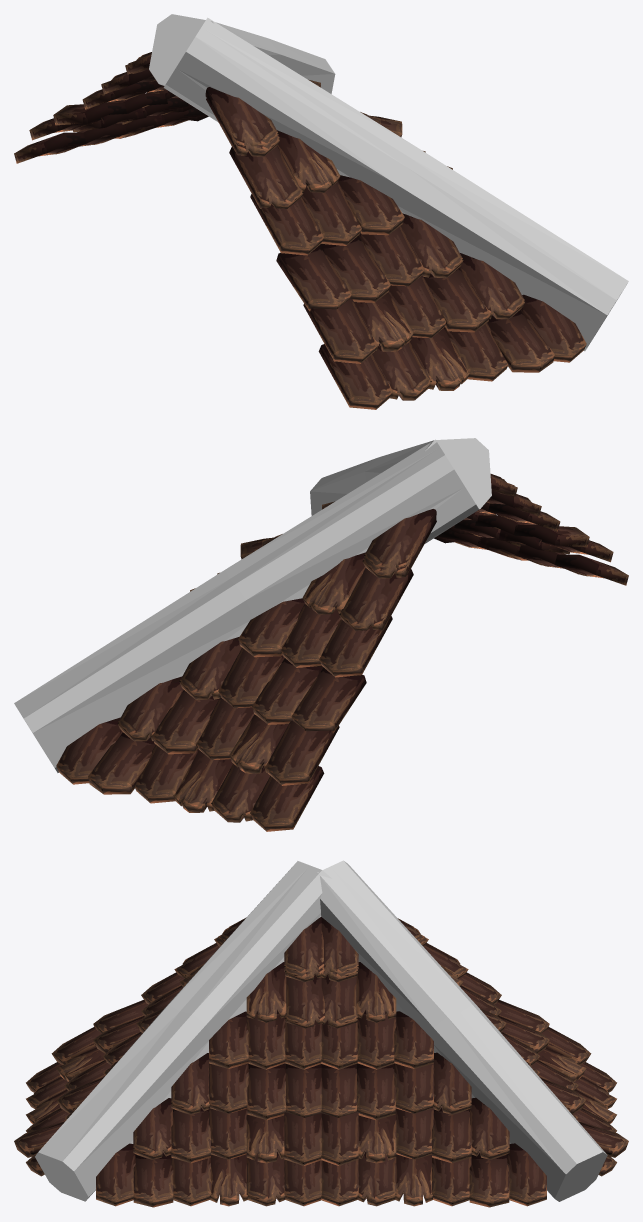
File: VV-RoofTile18.fbx
3 renders of one model, top to bottom at view 1: azimuth 30°, elevation 25°; view 2: azimuth 150°, elevation 25°; view 3: azimuth 270°, elevation 25°, orthographic. The views are drawn at different scales.
Parts seen in each view (by area): view 1: RoofTile.18; view 2: RoofTile.18; view 3: RoofTile.18.
Part boxes in pixels (box(x1,y1,x2,y2)): RoofTile.18: box(14, 14, 628, 409); RoofTile.18: box(14, 438, 628, 831); RoofTile.18: box(14, 860, 628, 1207).
Bounding box in the file's own units: 2.66 × 2.03 × 4.9.
